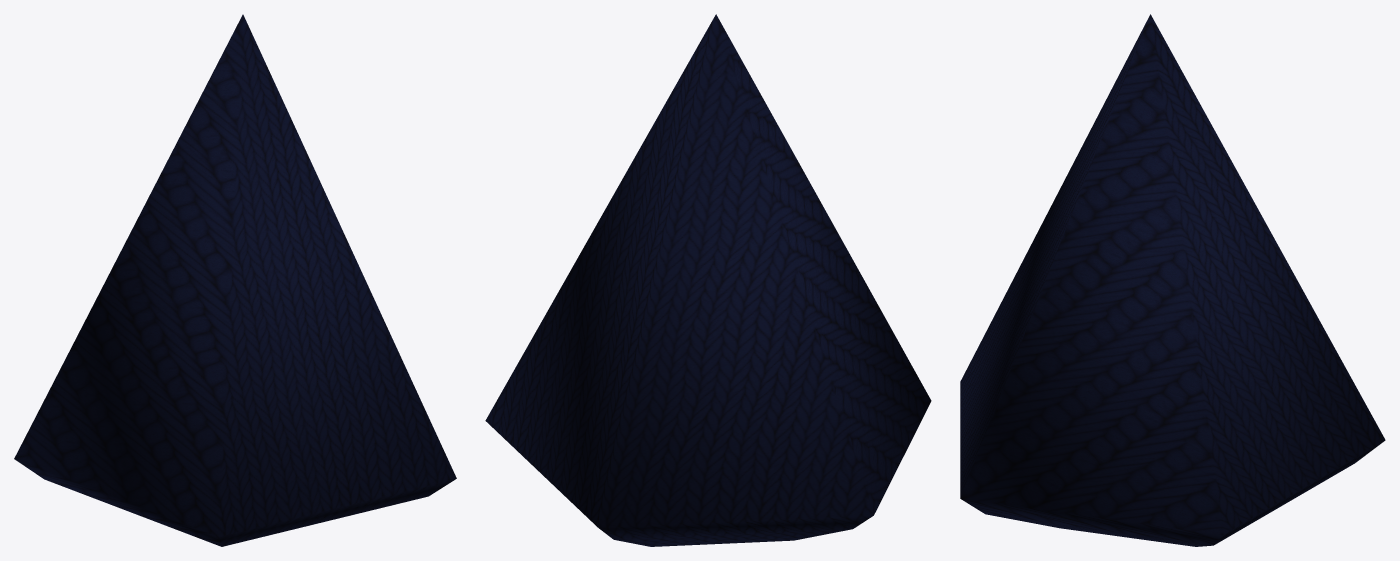
The model's file is Spike.fbx.
The picture shows the model from 3 angles, left to right: view 1: azimuth 30°, elevation 25°; view 2: azimuth 150°, elevation 25°; view 3: azimuth 270°, elevation 25°; orthographic projection.
Visible parts, largest first — view 1: Cone; view 2: Cone; view 3: Cone.
Boxes of the visible parts, bbox=[...] form: Cone: bbox=[14, 14, 456, 546]; Cone: bbox=[485, 14, 931, 546]; Cone: bbox=[960, 14, 1385, 546].
Bounding box in the file's own units: 190 × 227 × 181.
Materials: 1 (1 with a texture image).
